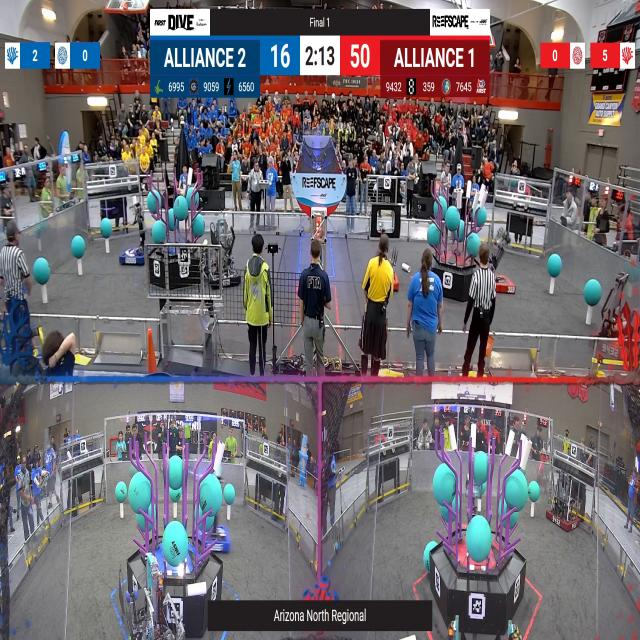scoreboard: (150, 36, 490, 96)
